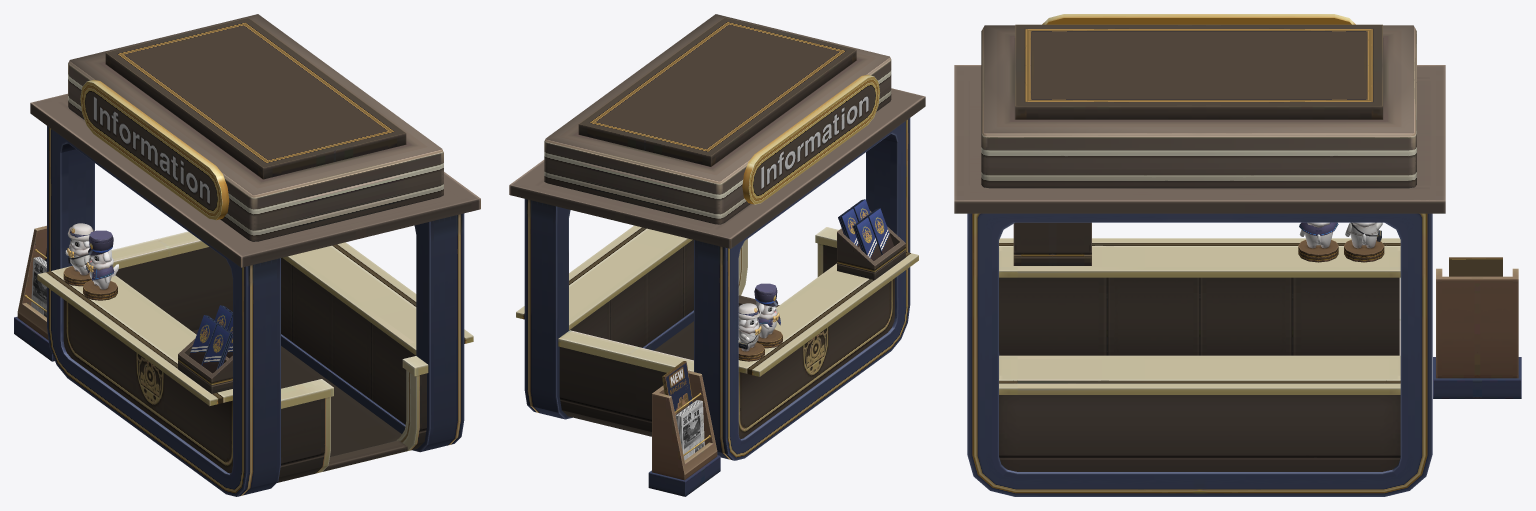
The model's file is my_highlander_01_newsstand_01.glb.
3 views of the same model, side by side, from view 1: azimuth 30°, elevation 25°; view 2: azimuth 150°, elevation 25°; view 3: azimuth 270°, elevation 25° (orthographic). The views are drawn at different scales.
Parts seen in each view (by area): view 1: my_highlander_01_newsstand_01; view 2: my_highlander_01_newsstand_01; view 3: my_highlander_01_newsstand_01.
Boxes of the visible parts, x1,y1,x2,y2 form: my_highlander_01_newsstand_01: (14, 14, 480, 496); my_highlander_01_newsstand_01: (509, 14, 925, 496); my_highlander_01_newsstand_01: (954, 14, 1521, 496).
Bounding box in the file's own units: 0.0144 × 0.0165 × 0.023.
1 material, 1 textured.
